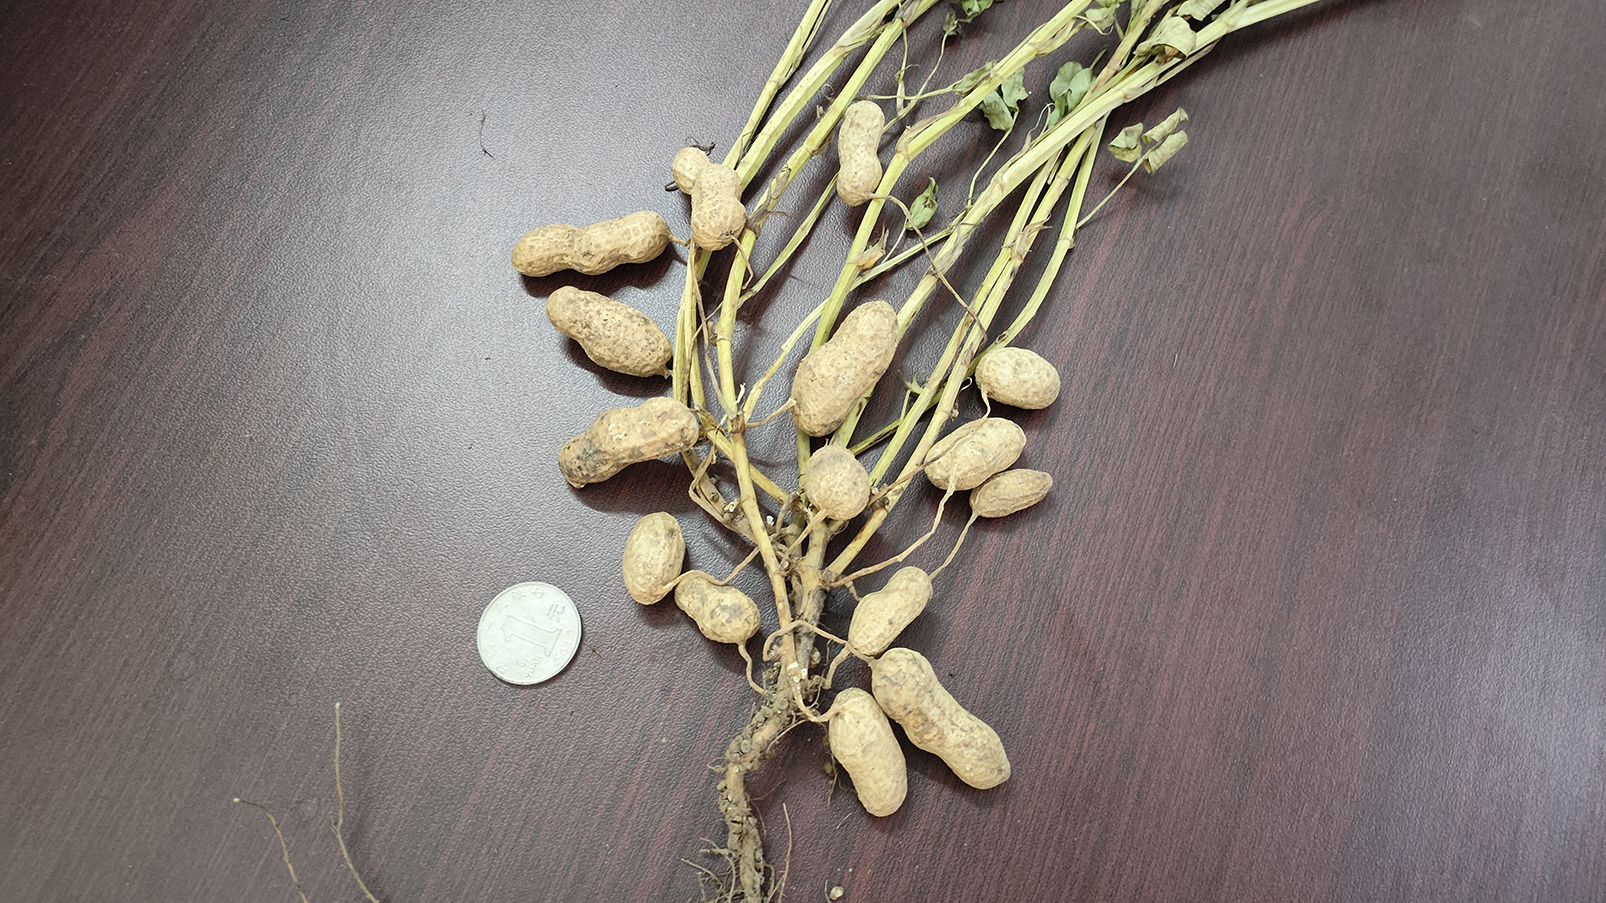h: (871, 645, 1011, 792), (790, 299, 901, 436), (556, 397, 700, 491), (545, 287, 672, 378), (513, 209, 670, 280), (829, 687, 908, 817), (670, 146, 747, 252), (848, 566, 934, 655), (927, 420, 1027, 490), (623, 509, 684, 606), (675, 576, 759, 639), (976, 348, 1062, 410), (836, 101, 884, 205), (802, 445, 866, 519), (970, 467, 1053, 522)
